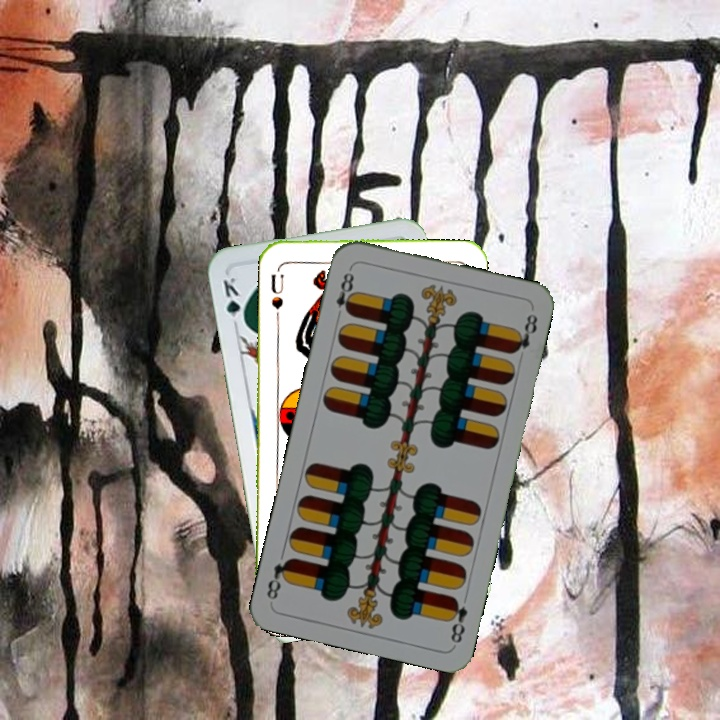E8: (332, 264, 358, 322), (444, 593, 470, 646)
GK: (219, 272, 248, 331)
SU: (266, 270, 287, 320)
